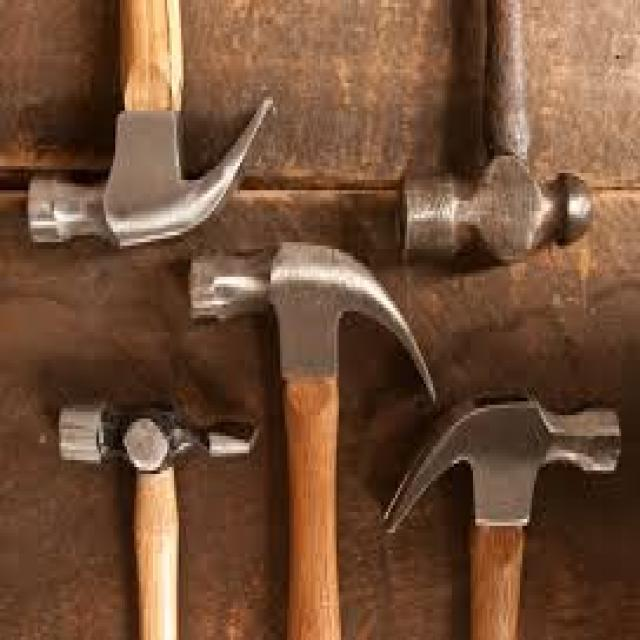hammer: (185, 228, 446, 640), (382, 356, 627, 640), (16, 0, 278, 263), (393, 0, 607, 287), (52, 370, 262, 640)
